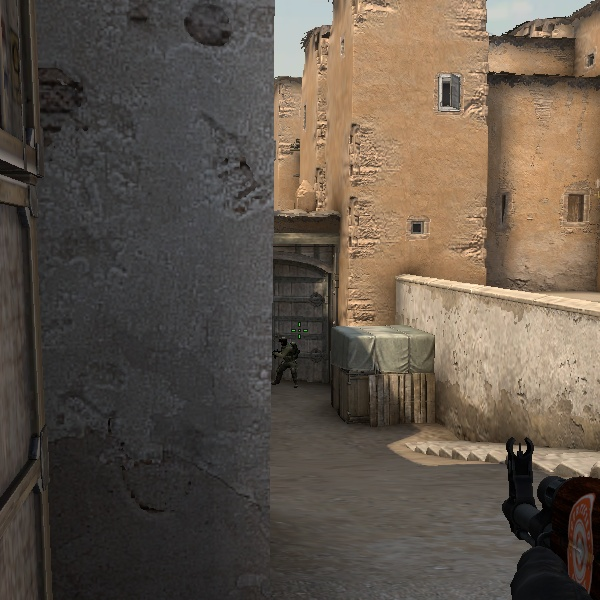ct_body: (273, 335, 301, 388)
